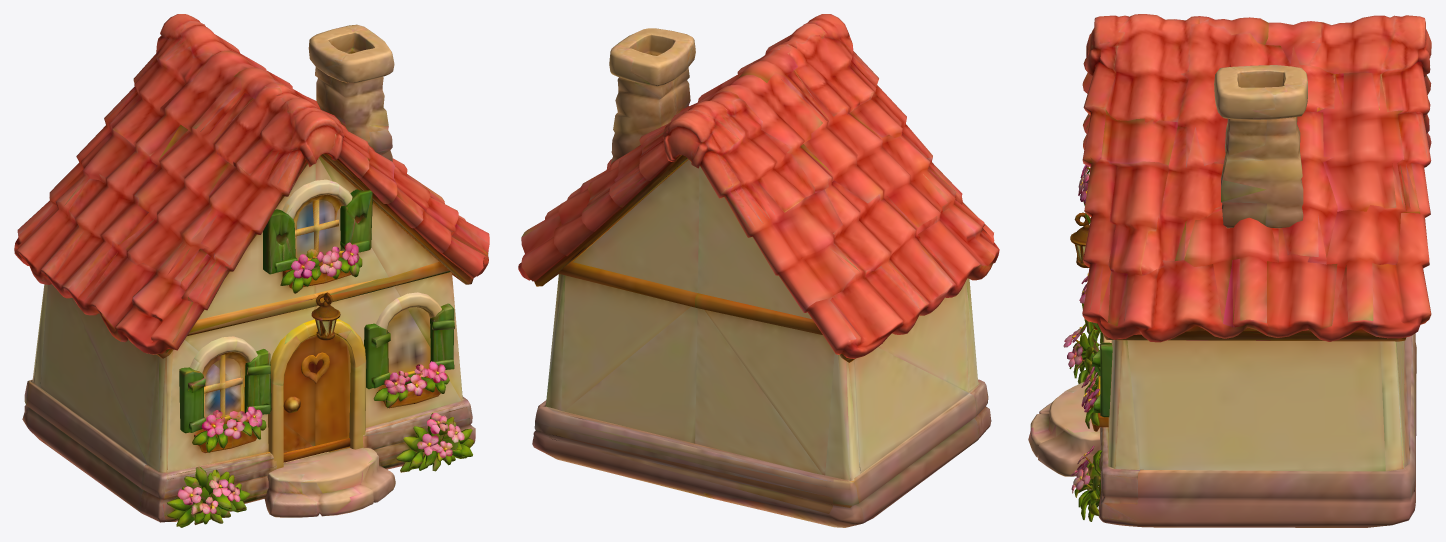
File: flower_box_cottage.glb
The picture shows the model from 3 angles, left to right: view 1: azimuth 30°, elevation 25°; view 2: azimuth 150°, elevation 25°; view 3: azimuth 270°, elevation 25°; orthographic projection. The views are drawn at different scales.
Visible parts, largest first — view 1: geometry_0; view 2: geometry_0; view 3: geometry_0.
Boxes of the visible parts, x1=… form: geometry_0: x1=14, y1=14, x2=489, y2=527; geometry_0: x1=518, y1=14, x2=999, y2=527; geometry_0: x1=1028, y1=14, x2=1431, y2=527.
Size of the model in its own units: 0.9507 by 0.9297 by 0.7803.
1 material, 1 textured.
